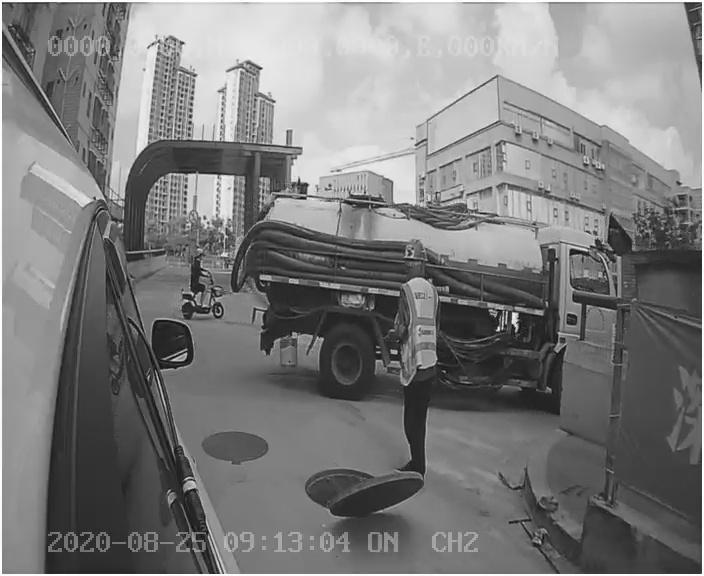person: (381, 240, 443, 482)
